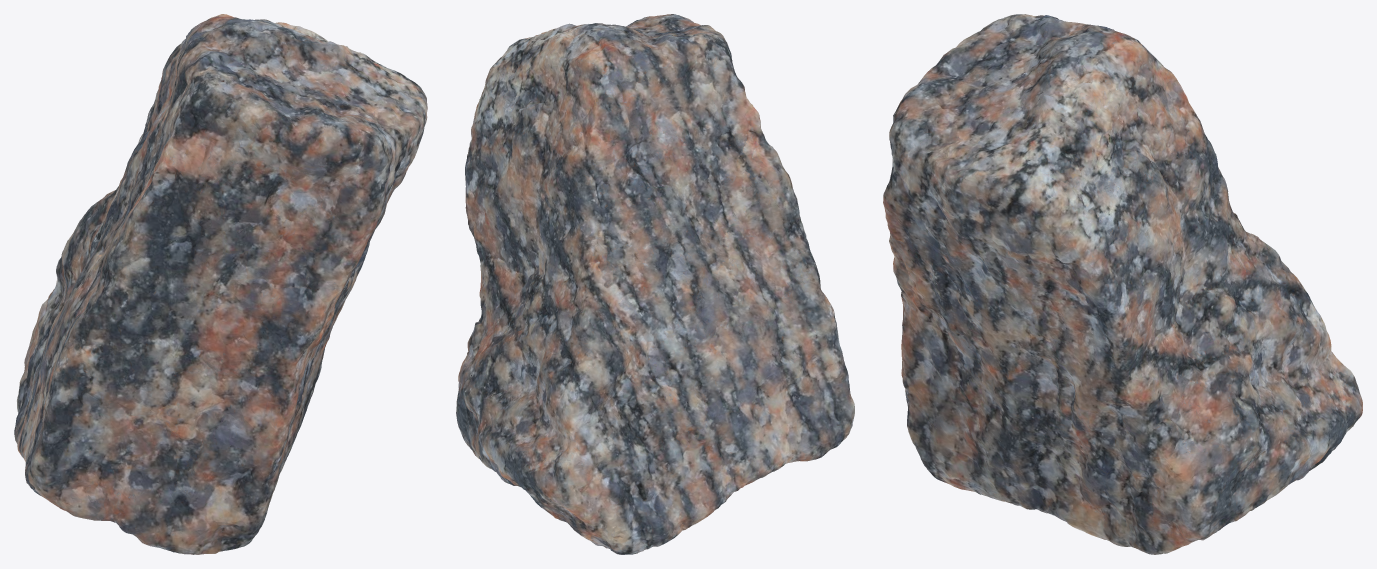
Rendered from gneiss.glb.
3 views of the same model, side by side, from view 1: azimuth 30°, elevation 25°; view 2: azimuth 150°, elevation 25°; view 3: azimuth 270°, elevation 25° (orthographic). The views are drawn at different scales.
Parts seen in each view (by area): view 1: Object_2; view 2: Object_2; view 3: Object_2.
Boxes of the visible parts, x1,y1,x2,y2 form: Object_2: (14, 14, 427, 554); Object_2: (456, 14, 854, 554); Object_2: (883, 14, 1362, 554).
Bounding box in the file's own units: 0.1044 × 0.12 × 0.106.
Materials: 1 (1 with a texture image).
